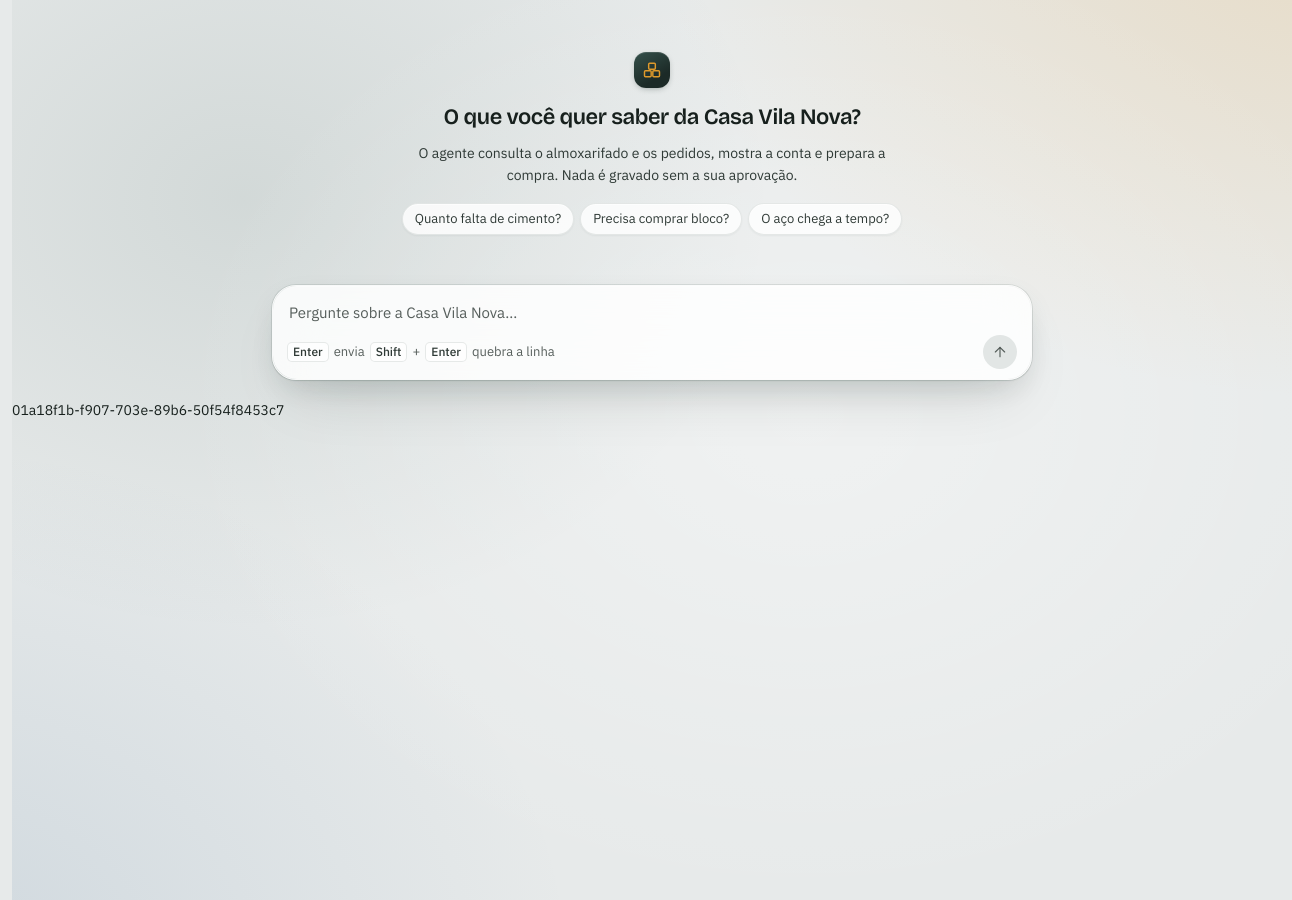
Scenario: conversa por SSE › mostra ferramenta, texto em streaming e o cartão de proposta; aprovar executa só pelo clique
The image size is (1292, 900).
Step 1. Type "precisa comprar bloco?" into the text box named "Pergunte ao agente" → [652, 313], box 287,298 -> 1017,328
Then press Enter
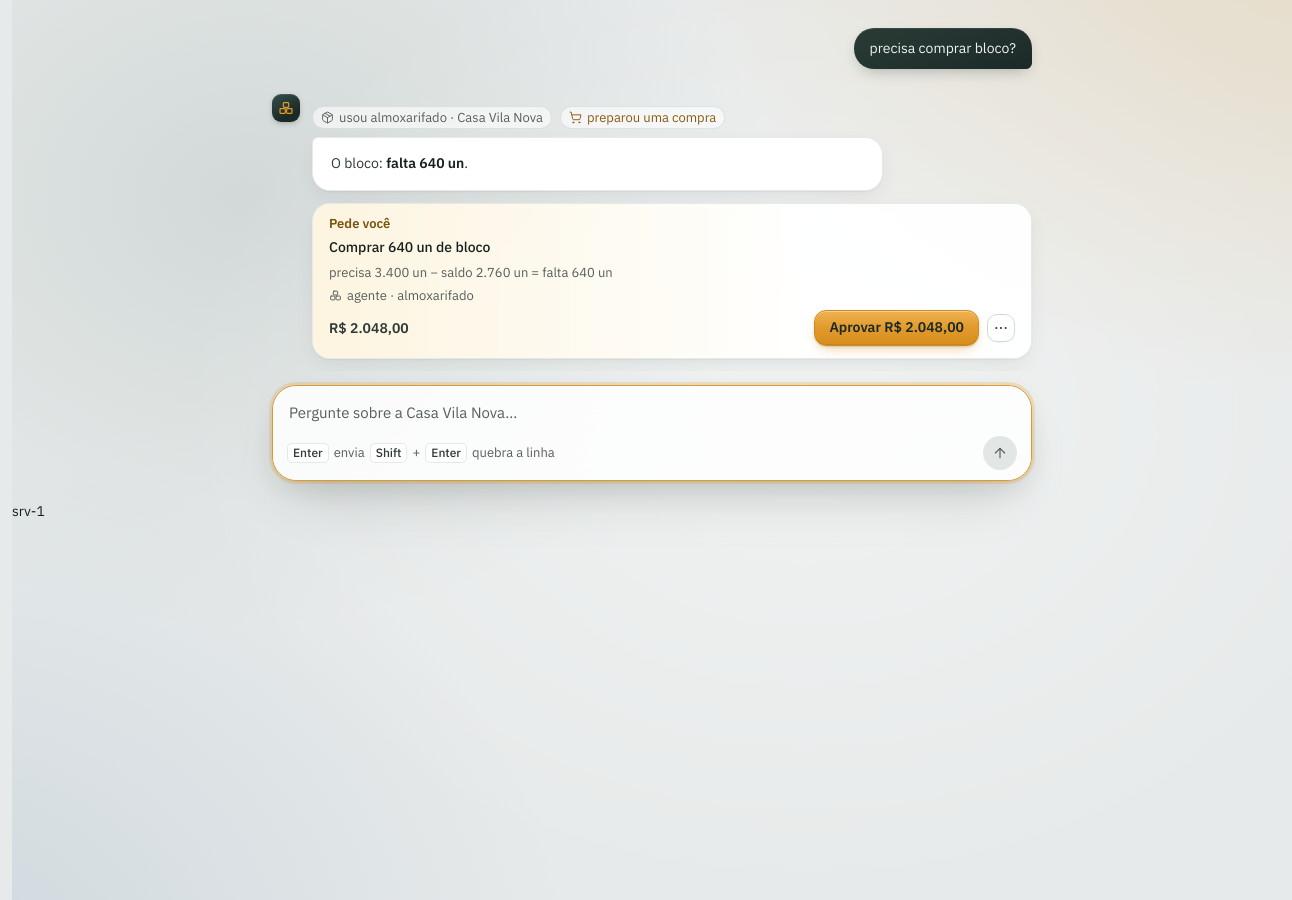
expect the list item "usou almoxarifado · Casa Vila Nova" is shown: met, box 312,106 -> 552,129
expect the text "falta 640 un" is shown: met, box 386,154 -> 464,172
expect the text with test id "sessao-servidor" reads "srv-1": met, box 12,502 -> 45,520
Step 2. Click the button "Aprovar R$ 2.048,00" → [897, 328], box 814,310 -> 979,346
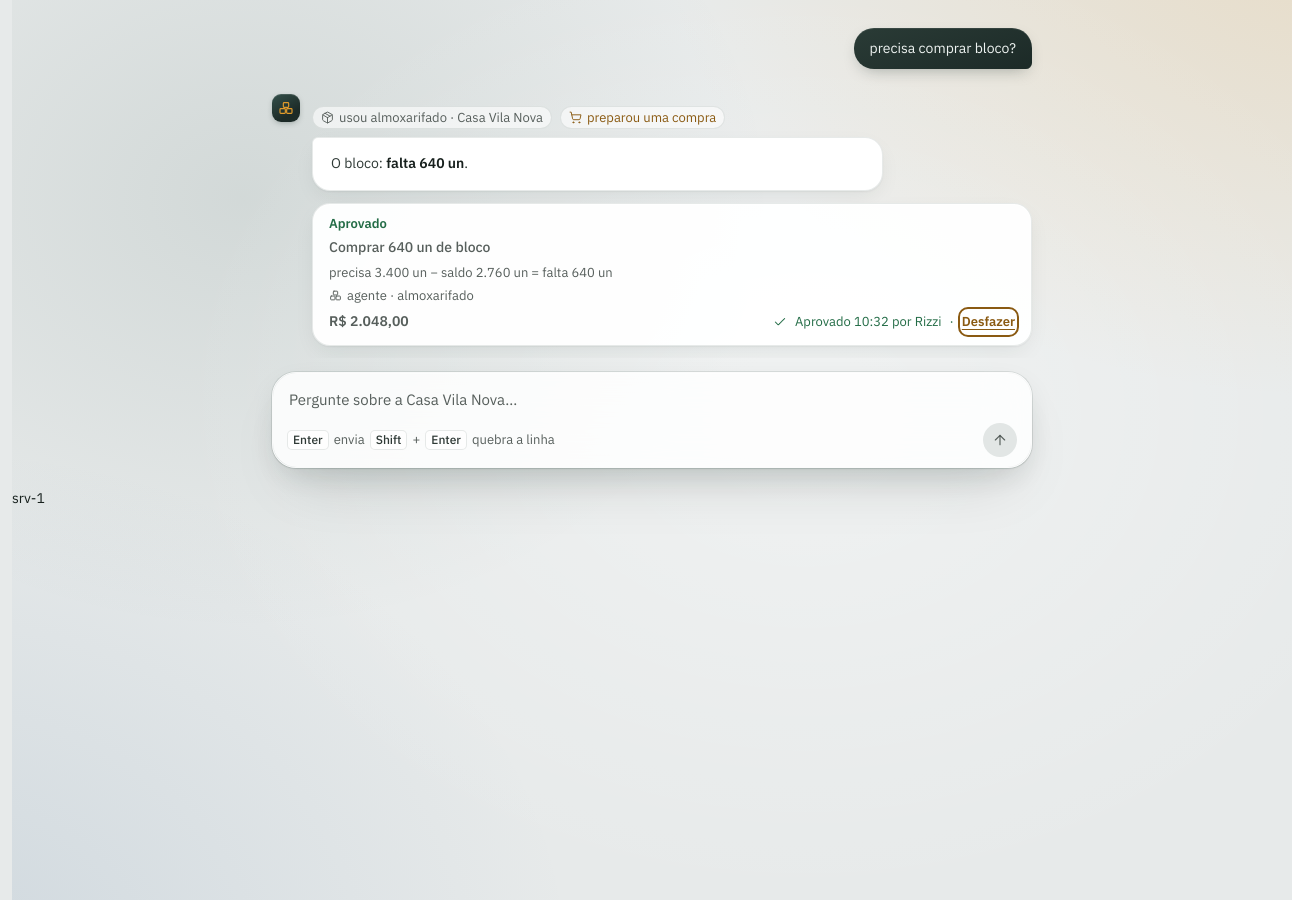
expect the text "Aprovado 10:32 por Rizzi" is shown: met, box 795,311 -> 942,333
expect the button "Desfazer" is shown: met, box 962,311 -> 1015,333
